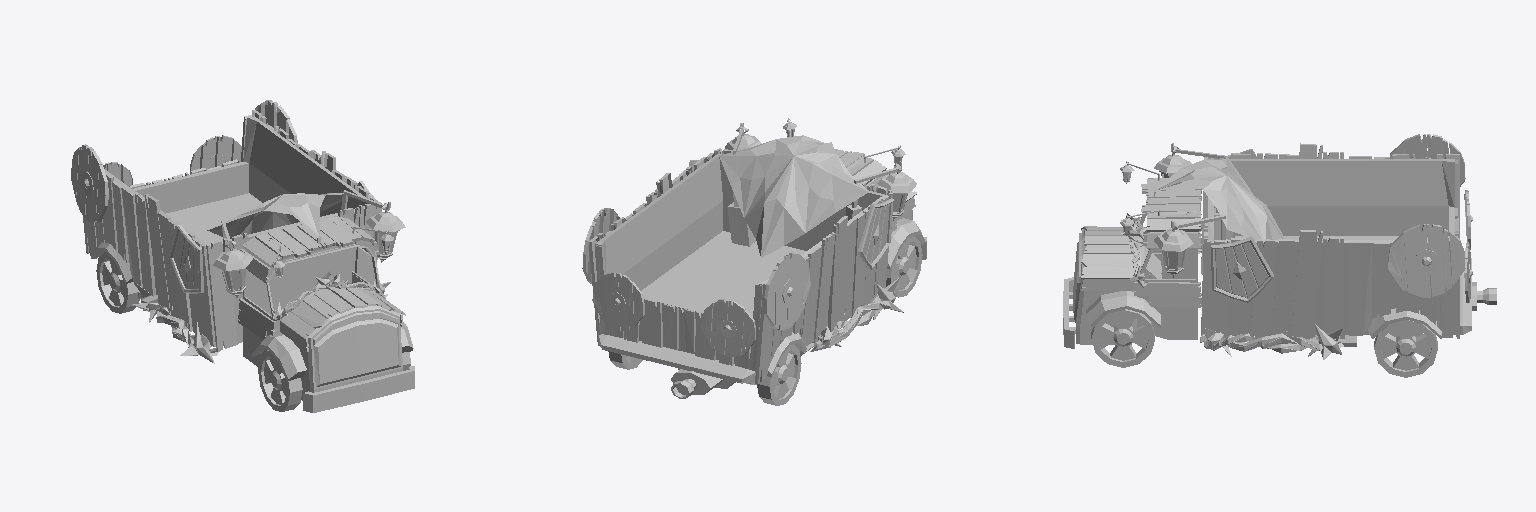
The model's file is truck_v001.obj.
3 renders of one model, left to right at view 1: azimuth 30°, elevation 25°; view 2: azimuth 150°, elevation 25°; view 3: azimuth 270°, elevation 25°, orthographic.
Parts seen in each view (by area): view 1: Cube.006, Cube.003, Cube.005, Tripwire_high.002, Tripwire_high.003; view 2: Cube.006, Cube.005, Cube.003, Tripwire_high.002, Circle; view 3: Cube.006, Cube.003, Cube.005, Tripwire_high.001.
Boxes of the visible parts, x1=… form: Cube.006: x1=71, y1=100, x2=413, y2=381; Cube.003: x1=213, y1=190, x2=414, y2=412; Cube.005: x1=96, y1=252, x2=410, y2=411; Tripwire_high.002: x1=132, y1=283, x2=219, y2=363; Tripwire_high.003: x1=272, y1=271, x2=331, y2=320; Cube.006: x1=582, y1=135, x2=924, y2=383; Cube.005: x1=608, y1=236, x2=922, y2=405; Cube.003: x1=725, y1=118, x2=926, y2=384; Tripwire_high.002: x1=810, y1=277, x2=903, y2=351; Circle: x1=671, y1=368, x2=735, y2=398; Cube.006: x1=1081, y1=134, x2=1472, y2=346; Cube.003: x1=1063, y1=143, x2=1422, y2=348; Cube.005: x1=1091, y1=266, x2=1437, y2=377; Tripwire_high.001: x1=1200, y1=324, x2=1344, y2=359.
Size of the model in its own units: 2.56 by 1.89 by 4.52.